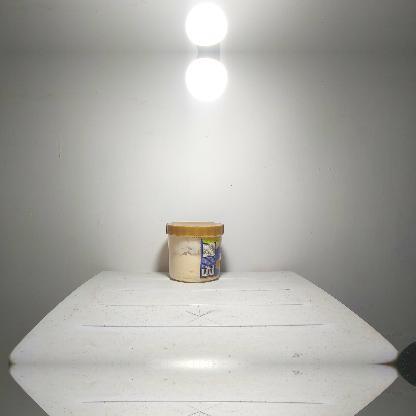Lady-s-Choice: (166, 221, 224, 282)
